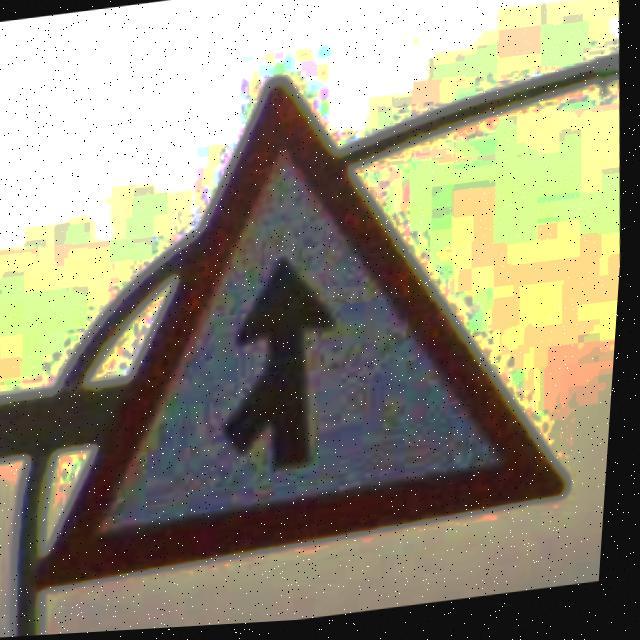leftmerge: (3, 42, 604, 596)
